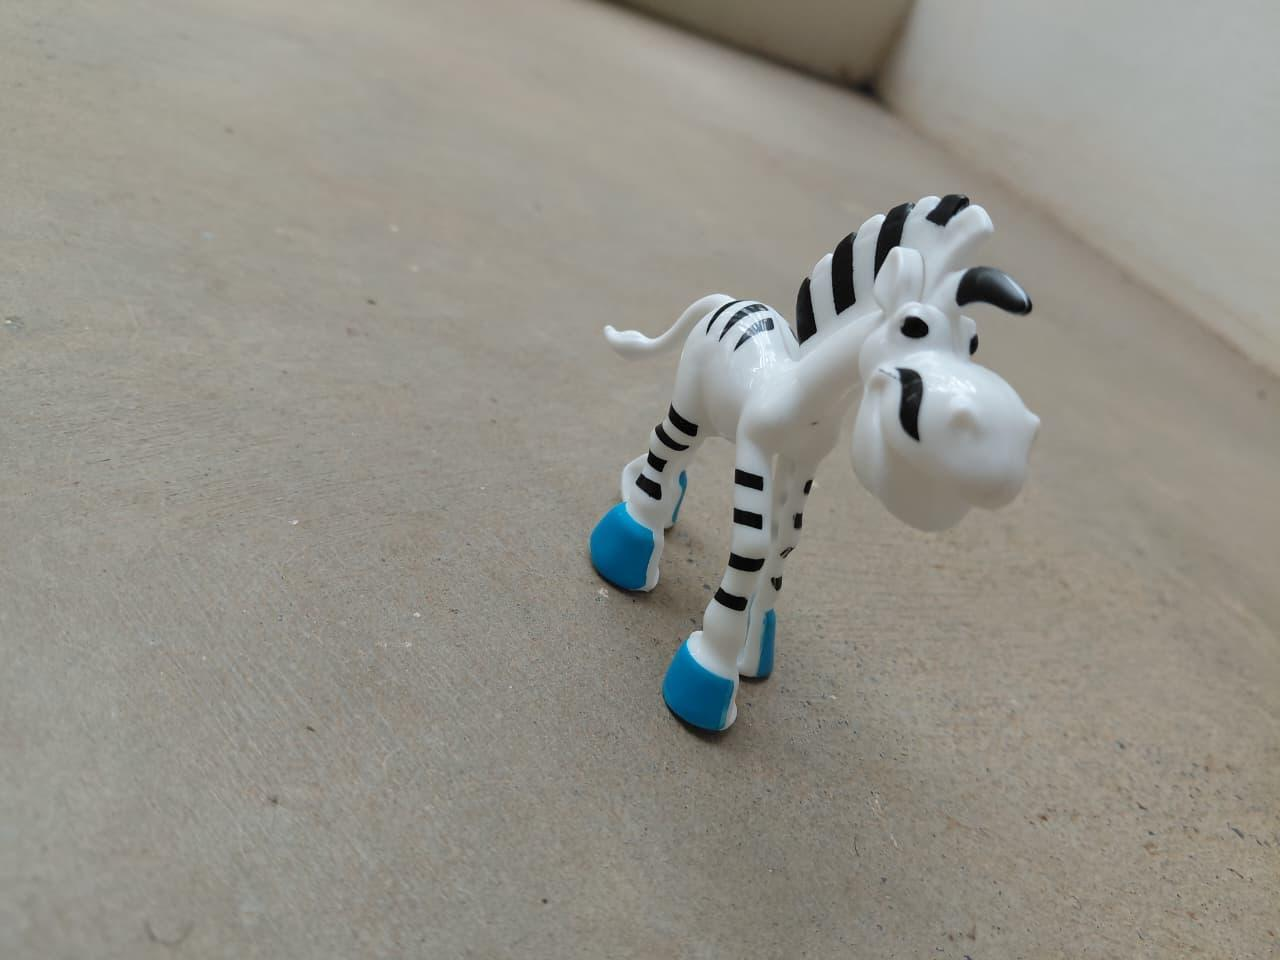zebra: (584, 185, 1045, 746)
